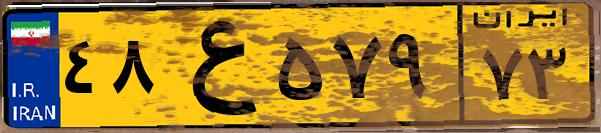3: (525, 38, 570, 115)
4: (57, 26, 110, 100)
5: (270, 28, 330, 110)
7: (330, 28, 385, 110), (475, 38, 525, 113)
8: (110, 28, 158, 98)
9: (385, 28, 445, 110)
ع: (158, 12, 270, 120)
